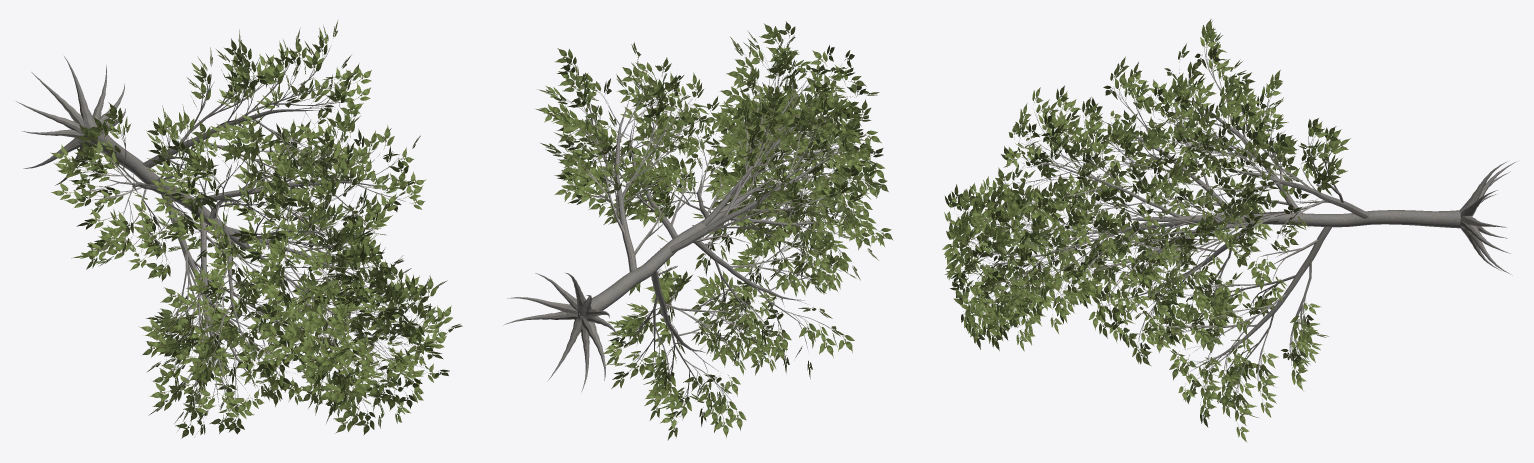
The picture shows the model from 3 angles, left to right: view 1: azimuth 30°, elevation 25°; view 2: azimuth 150°, elevation 25°; view 3: azimuth 270°, elevation 25°; orthographic projection. The views are drawn at different scales.
Parts seen in each view (by area): view 1: EU06y; view 2: EU06y; view 3: EU06y.
Boxes of the visible parts, <box> form: EU06y: <box>16,21,462,438</box>; EU06y: <box>503,21,893,440</box>; EU06y: <box>942,19,1516,441</box>.
Size of the model in its own units: 27.91 by 29.19 by 41.43.
Materials: 3 (3 with a texture image).
